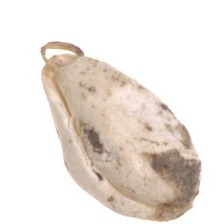L1: (166, 159, 201, 217), (40, 38, 77, 87)
L2: (41, 41, 201, 222)
